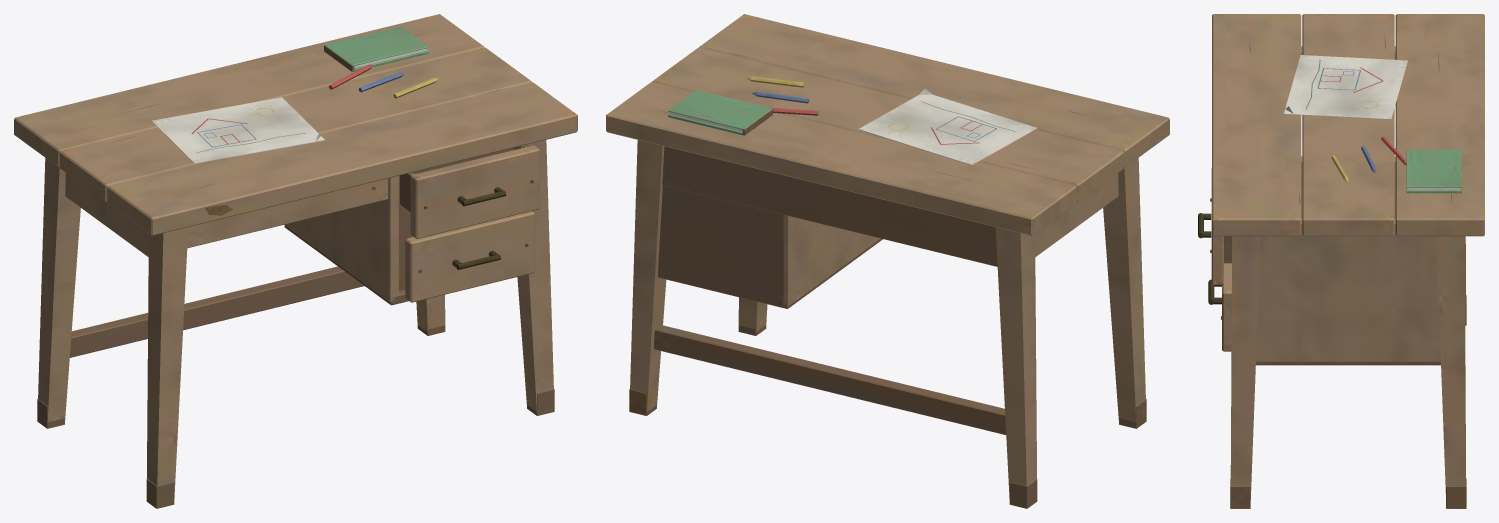
Rendered from B10_kids_study_desk.glb.
The picture shows the model from 3 angles, left to right: view 1: azimuth 30°, elevation 25°; view 2: azimuth 150°, elevation 25°; view 3: azimuth 270°, elevation 25°; orthographic projection.
Visible parts, largest first — view 1: Desktop plank 0; view 2: Desktop plank 0; view 3: Desktop plank 0.
Boxes of the visible parts, box(x1,y1,x2,y2) form: Desktop plank 0: box(14, 14, 577, 508); Desktop plank 0: box(606, 14, 1169, 508); Desktop plank 0: box(1198, 14, 1484, 508).
Bounding box in the file's own units: 1 × 0.6913 × 0.5898.
9 materials, 9 textured.
